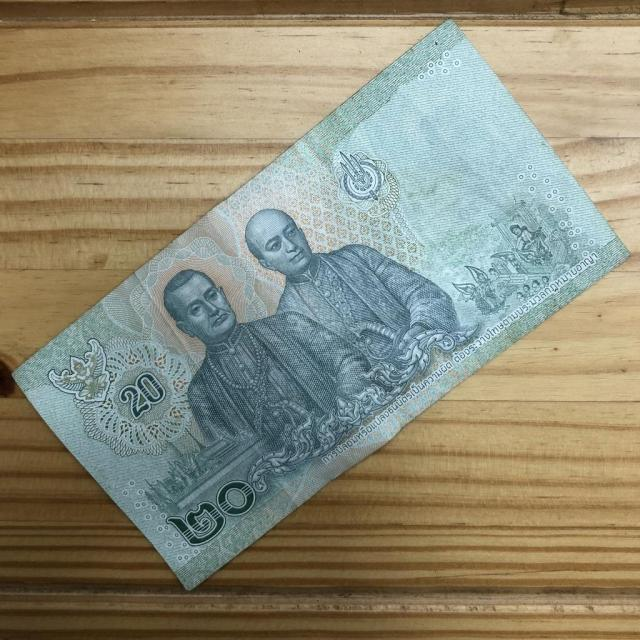THAI20: (14, 21, 628, 588)
